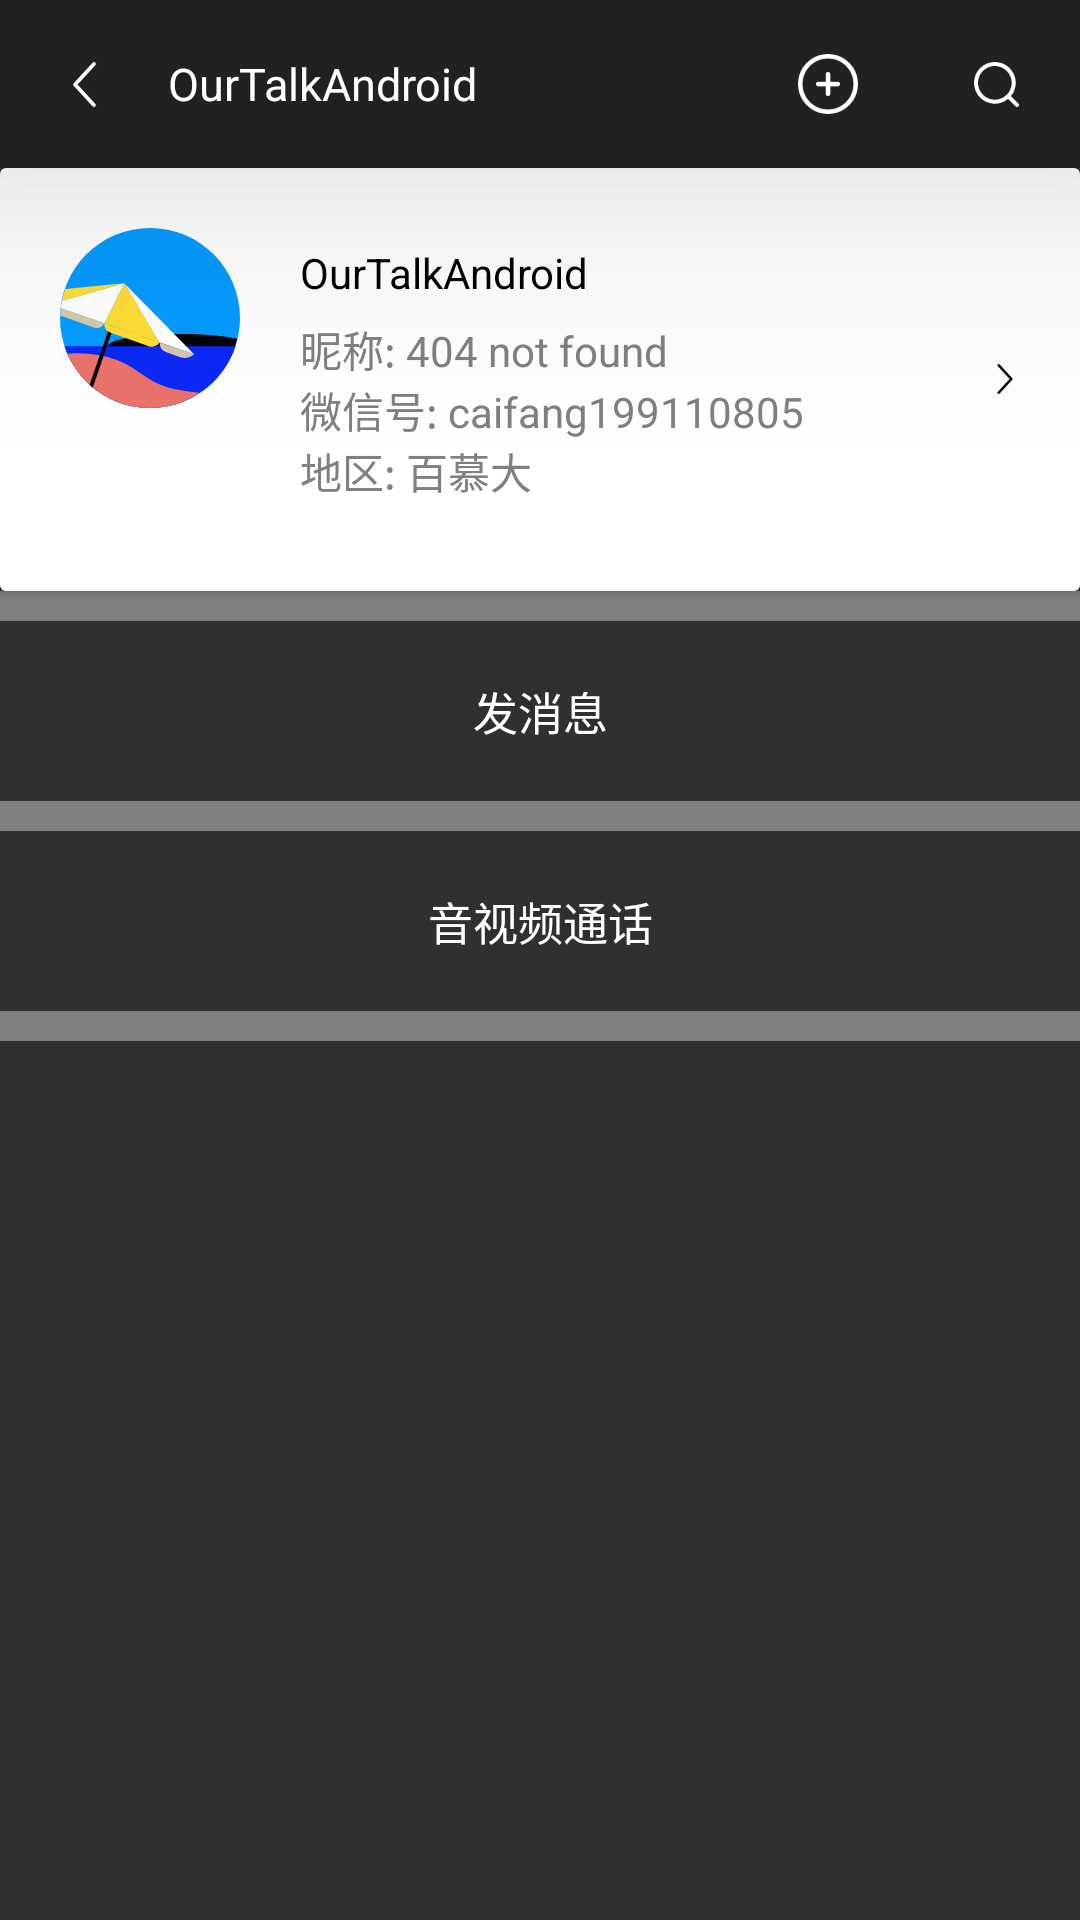

Icons on this 1080 × 1920 Android screen, each with the point to tap as (x,y):
add: (828,84)
back: (84,84)
head: (150,318)
into: (1005,379)
query: (996,84)
